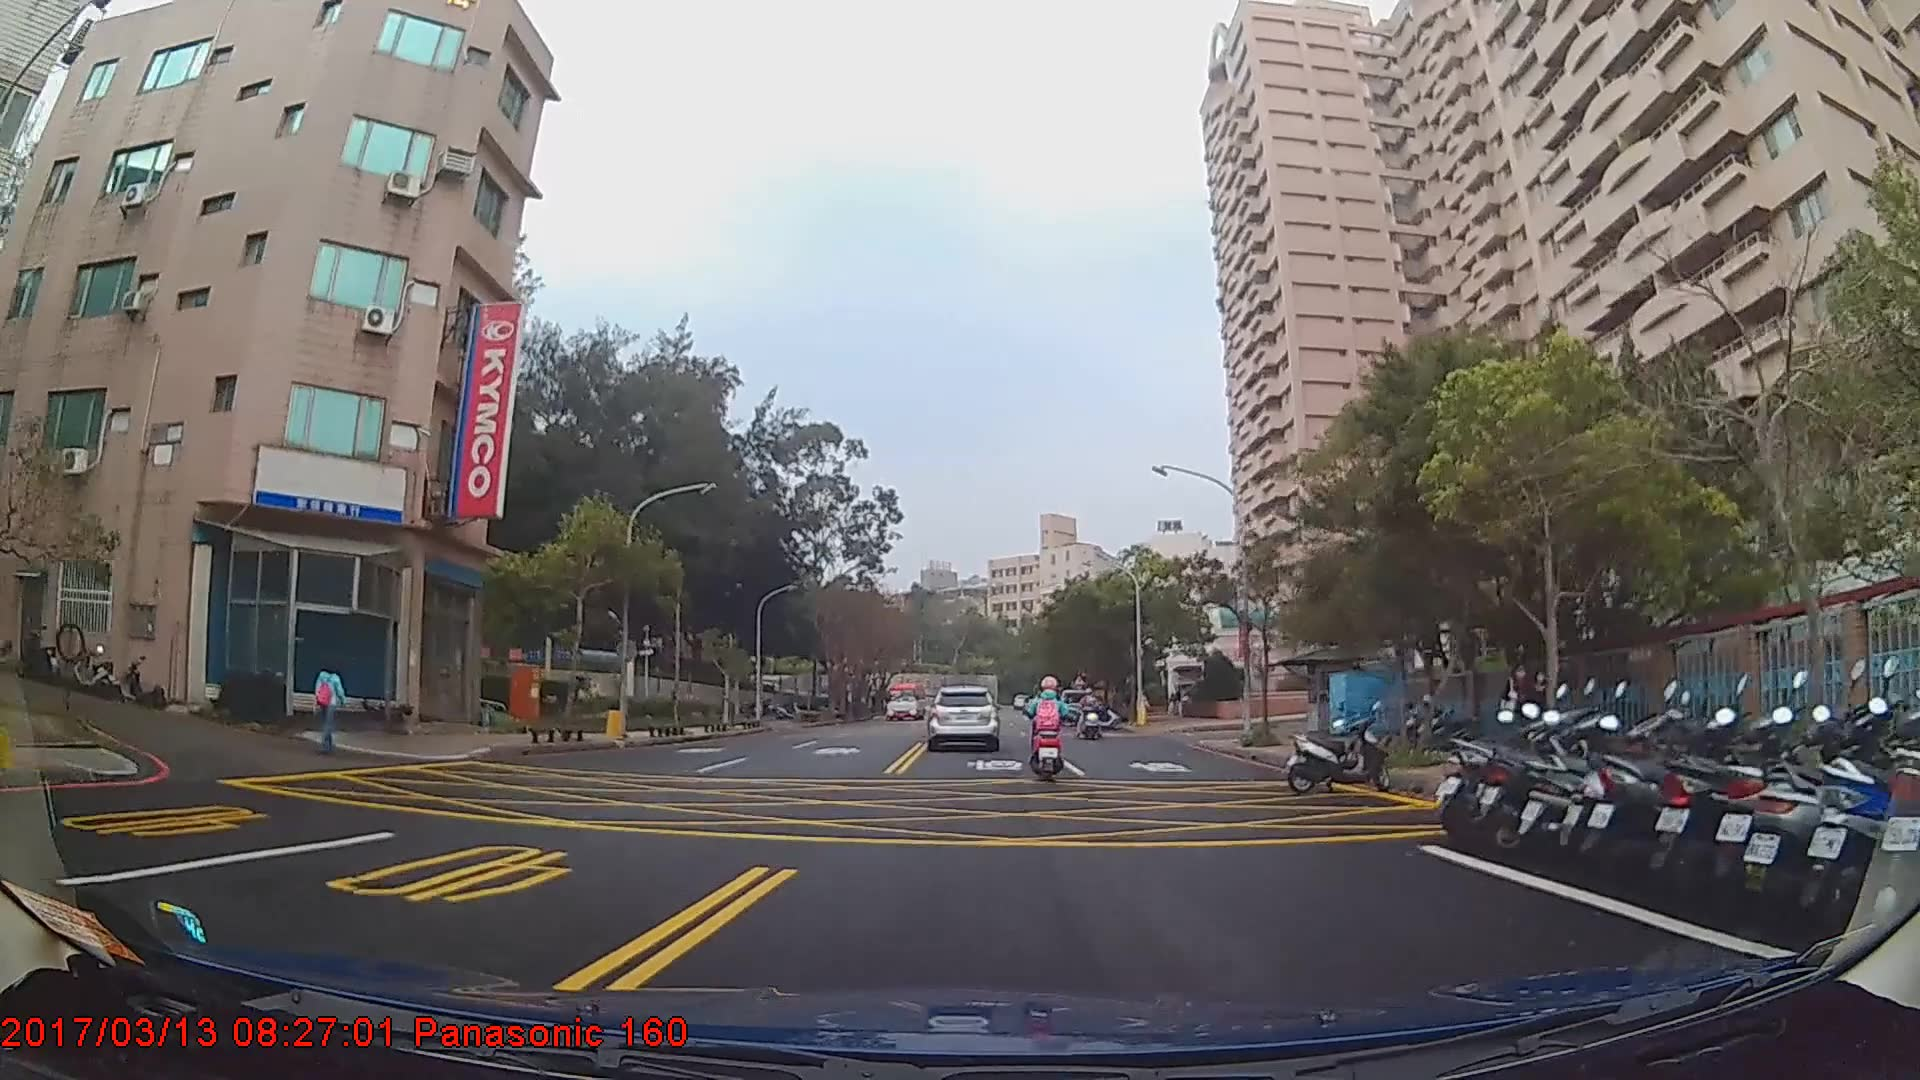pedestrian: (1494, 657, 1534, 754), (315, 654, 347, 754)
rider: (1025, 670, 1071, 781), (1076, 686, 1103, 739)
vehicle: (925, 681, 998, 746), (881, 680, 925, 721)
